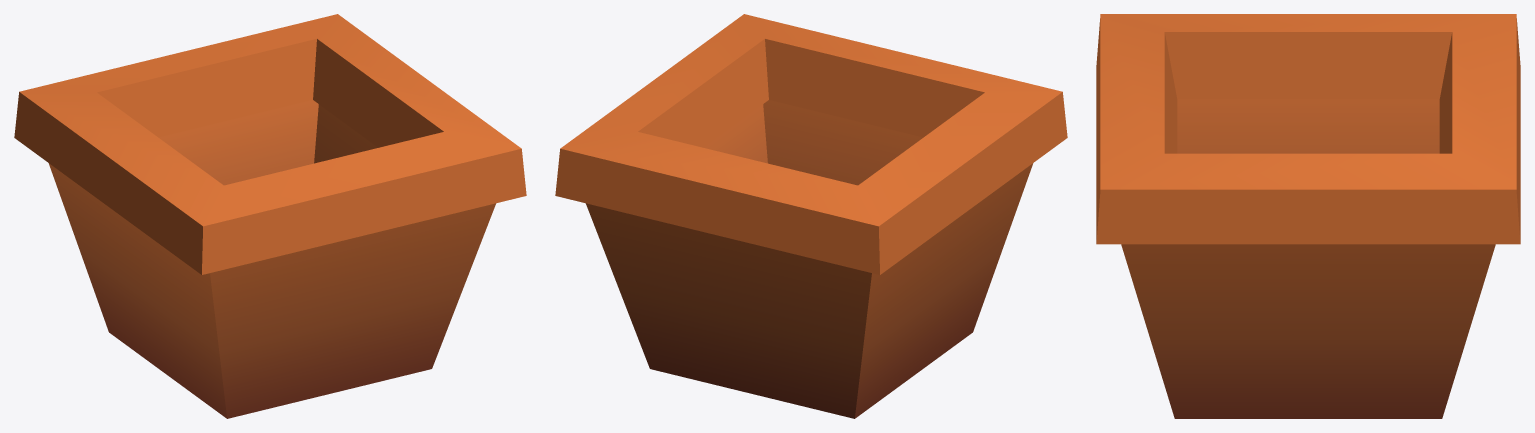
File: Claypot03.fbx
3 views of the same model, side by side, from view 1: azimuth 30°, elevation 25°; view 2: azimuth 150°, elevation 25°; view 3: azimuth 270°, elevation 25° (orthographic). The views are drawn at different scales.
Parts seen in each view (by area): view 1: Claypot03; view 2: Claypot03; view 3: Claypot03.
Part boxes in pixels (x1,y1,x2,y2): Claypot03: (14,14,526,418); Claypot03: (555,14,1067,418); Claypot03: (1096,14,1520,418).
Bounding box in the file's own units: 0.4739 × 0.3326 × 0.4739.
1 material, 1 textured.
